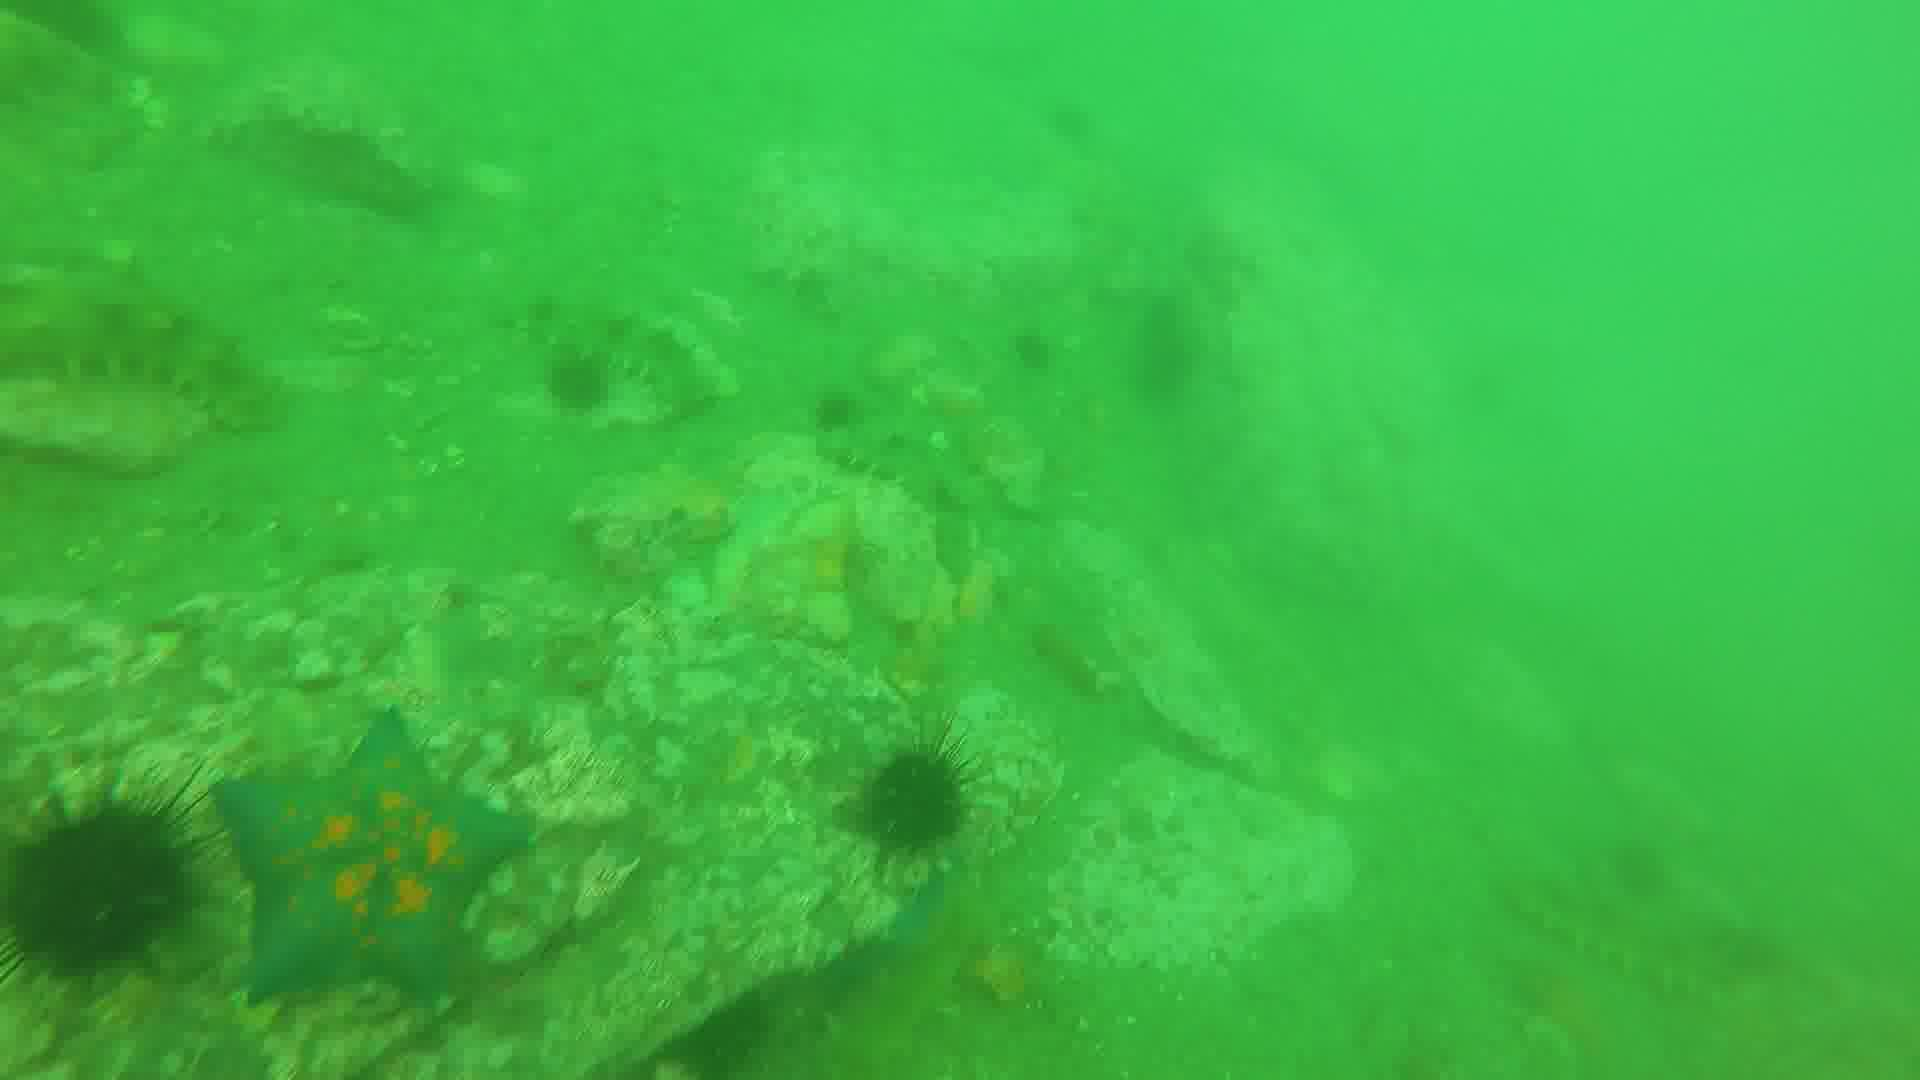echinus: (8, 786, 206, 981), (865, 746, 968, 858)
holothurian: (1, 257, 299, 435), (1506, 877, 1747, 1000), (502, 287, 715, 404), (810, 419, 975, 547)
starfish: (222, 716, 537, 1005)
